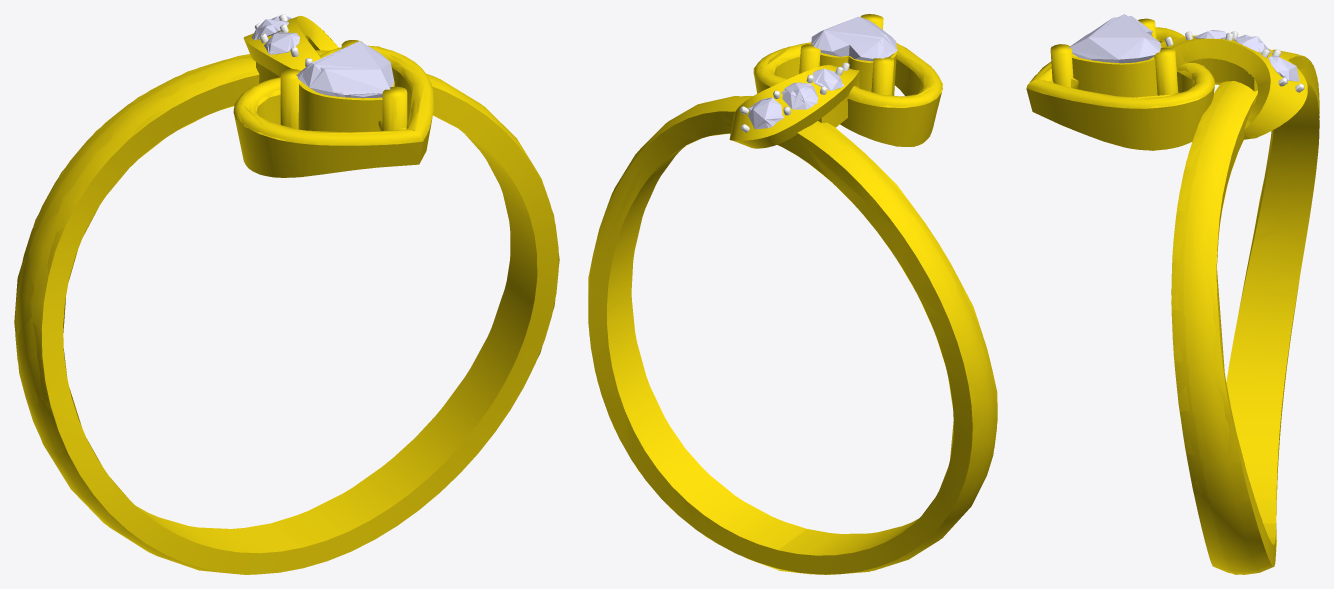
Rendered from DLR-D000675660.glb.
3 renders of one model, left to right at view 1: azimuth 30°, elevation 25°; view 2: azimuth 150°, elevation 25°; view 3: azimuth 270°, elevation 25°, orthographic. The views are drawn at different scales.
Parts seen in each view (by area): view 1: highPolyMesh, lowPolyMesh; view 2: lowPolyMesh, highPolyMesh; view 3: highPolyMesh, lowPolyMesh.
Boxes of the visible parts, x1,y1,x2,y2 form: highPolyMesh: (15, 14, 558, 574); lowPolyMesh: (14, 16, 559, 574); lowPolyMesh: (588, 14, 997, 574); highPolyMesh: (589, 14, 996, 574); highPolyMesh: (1026, 16, 1319, 574); lowPolyMesh: (1026, 14, 1319, 574).
Bounding box in the file's own units: 0.0194 × 0.0213 × 0.0109.
